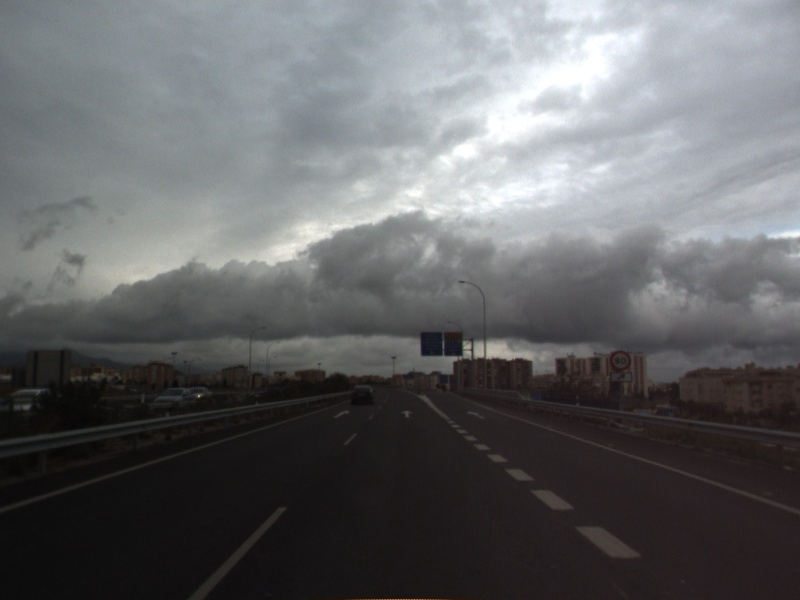STRAIGHT: (464, 408, 488, 422), (330, 407, 352, 420), (398, 408, 416, 420)
